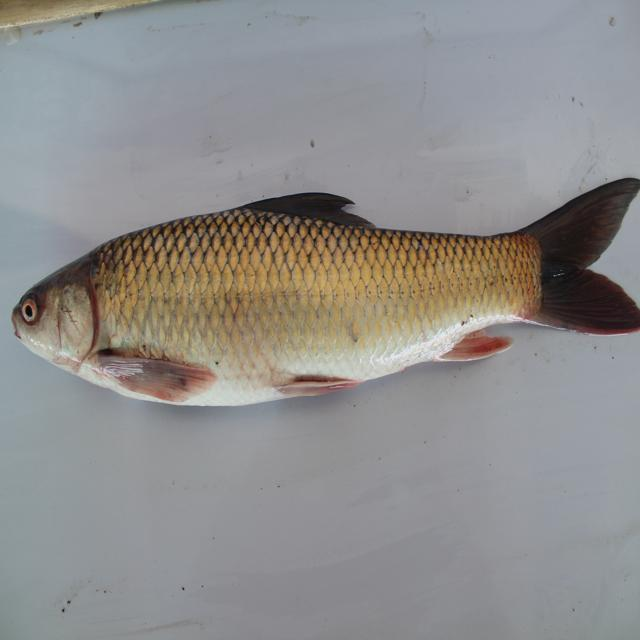Grass Carp: (12, 185, 640, 410)
